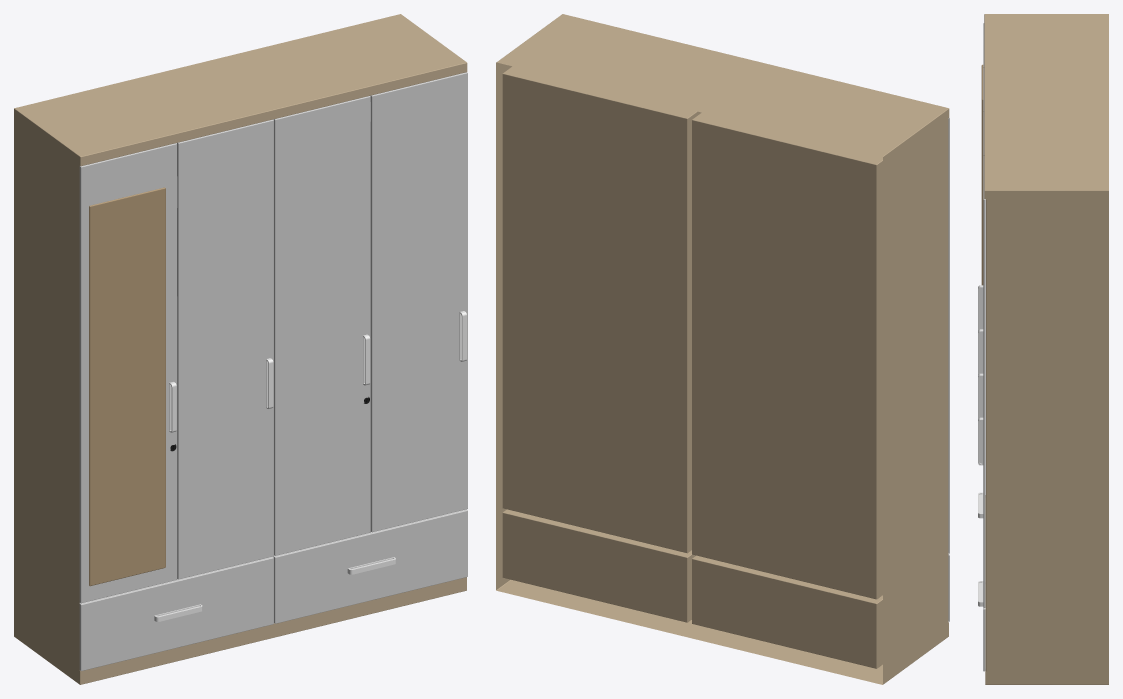
The model's file is storage9.obj.
The picture shows the model from 3 angles, left to right: view 1: azimuth 30°, elevation 25°; view 2: azimuth 150°, elevation 25°; view 3: azimuth 270°, elevation 25°; orthographic projection. The views are drawn at different scales.
Parts seen in each view (by area): view 1: storage9; view 2: storage9; view 3: storage9.
Part boxes in pixels (x1,y1,x2,y2): storage9: (14,14,467,684); storage9: (496,14,949,684); storage9: (978,14,1108,684).
Size of the model in its own units: 1.69 by 2.2 by 0.5271.
